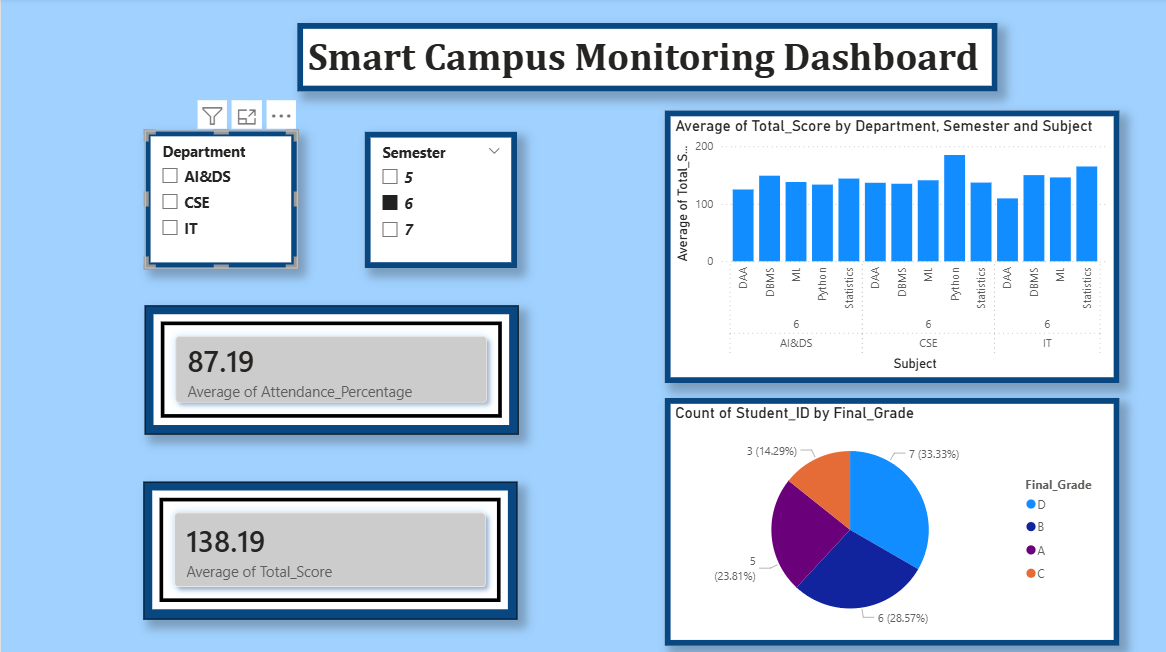

Layout of this report page (visuals, bound fields, positions):
{"tool":"powerbi","page":{"name":"Page 1","canvas":[1280,720],"ordinal":0},"visuals":[{"type":"textbox","box":[325.2,27.4,768.4,75.5],"z":0},{"type":"cardVisual","fields":{"Data":["Avg(5 student_performance.Attendance_Percentage)"]},"box":[157.8,337.6,410.3,141.3],"z":1000},{"type":"cardVisual","fields":{"Data":["Avg(5 student_performance.Total_Score)"]},"box":[156.4,531,410.3,150.9],"z":2000},{"type":"slicer","fields":{"Values":["5 student_performance.Department"]},"box":[157.8,145.5,167.4,150.9],"z":3000},{"type":"slicer","fields":{"Values":["5 student_performance.Semester"]},"box":[399.3,146.8,167.4,149.6],"z":4000},{"type":"clusteredColumnChart","fields":{"Y":["Avg(5 student_performance.Total_Score)"],"Category":["5 student_performance.Department","5 student_performance.Semester","5 student_performance.Subject"]},"box":[728.6,123.5,499.5,299.1],"z":5000},{"type":"pieChart","fields":{"Category":["5 student_performance.Final_Grade"],"Y":["CountNonNull(5 student_performance.Student_ID)"]},"box":[728.6,439.1,499.5,271.7],"z":6000}]}

Visuals, with their boxes in screenshot pixels (x1, y1, x2, y2), scaled from the page's 1280x720 canvas onto the 1166x652 screenshot:
textbox: locate(296, 25, 996, 93)
cardVisual - Avg(5 student_performance.Attendance_Percentage): locate(144, 306, 518, 434)
cardVisual - Avg(5 student_performance.Total_Score): locate(142, 481, 516, 617)
slicer - 5 student_performance.Department: locate(144, 132, 296, 268)
slicer - 5 student_performance.Semester: locate(364, 133, 516, 268)
clusteredColumnChart - Avg(5 student_performance.Total_Score) x 5 student_performance.Department: locate(664, 112, 1119, 383)
pieChart - 5 student_performance.Final_Grade x CountNonNull(5 student_performance.Student_ID): locate(664, 398, 1119, 644)
